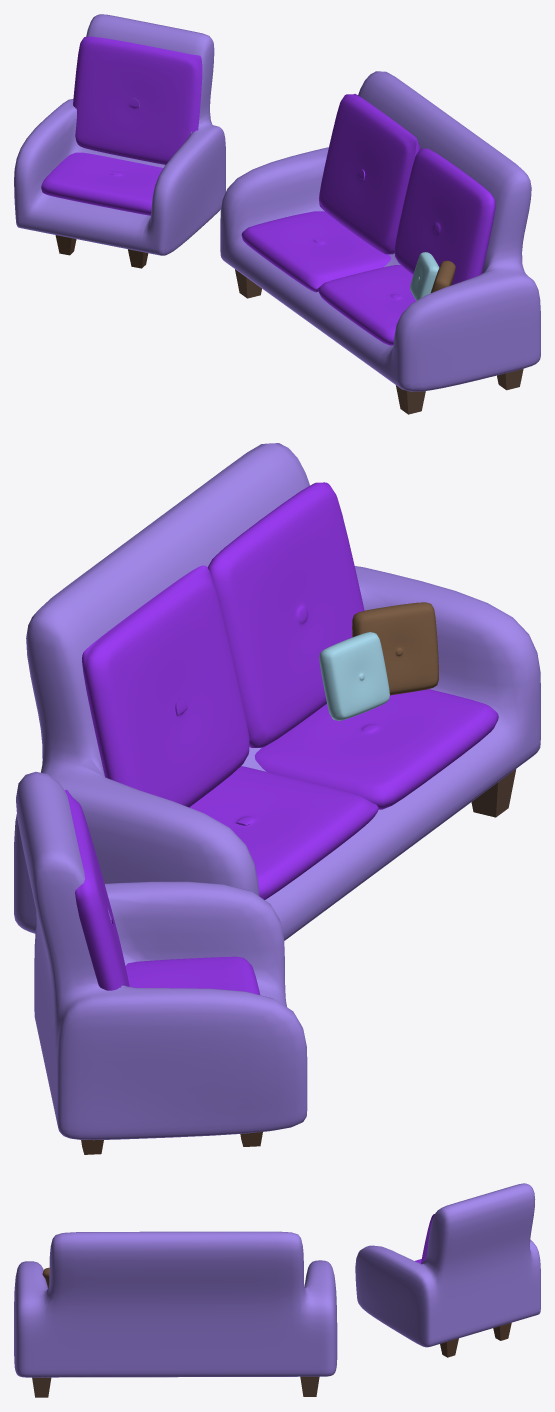
Rendered from диван.fbx.
3 renders of one model, top to bottom at view 1: azimuth 30°, elevation 25°; view 2: azimuth 150°, elevation 25°; view 3: azimuth 270°, elevation 25°, orthographic. The views are drawn at different scales.
Parts seen in each view (by area): view 1: sofa, sofa.001, Cube.038, Cube.037, Cube.005, Plane.015, Cube.094, Cube, Cube.010; view 2: sofa, sofa.001, Cube.005, Cube.037, Cube.038, Cube.010, Cube.094, Plane.015; view 3: sofa, sofa.001, Plane.015, Cube.
Part boxes in pixels (x1,y1,x2,y2): sofa: (220,71,540,391); sofa.001: (14,14,225,255); Cube.038: (41,36,202,215); Cube.037: (241,94,416,292); Cube.005: (316,140,495,345); Plane.015: (235,269,523,414); Cube.094: (410,252,439,300); Cube: (55,235,148,268); Cube.010: (431,260,455,292); sofa: (14,443,540,940); sofa.001: (16,771,307,1140); Cube.005: (175,482,498,825); Cube.037: (82,565,378,899); Cube.038: (65,789,259,994); Cube.010: (352,602,438,695); Cube.094: (319,632,389,720); Plane.015: (471,769,516,817); sofa: (14,1231,337,1377); sofa.001: (355,1183,540,1347); Plane.015: (32,1376,319,1397); Cube: (440,1323,511,1357).
Size of the model in its own units: 896 by 633 by 1773.
